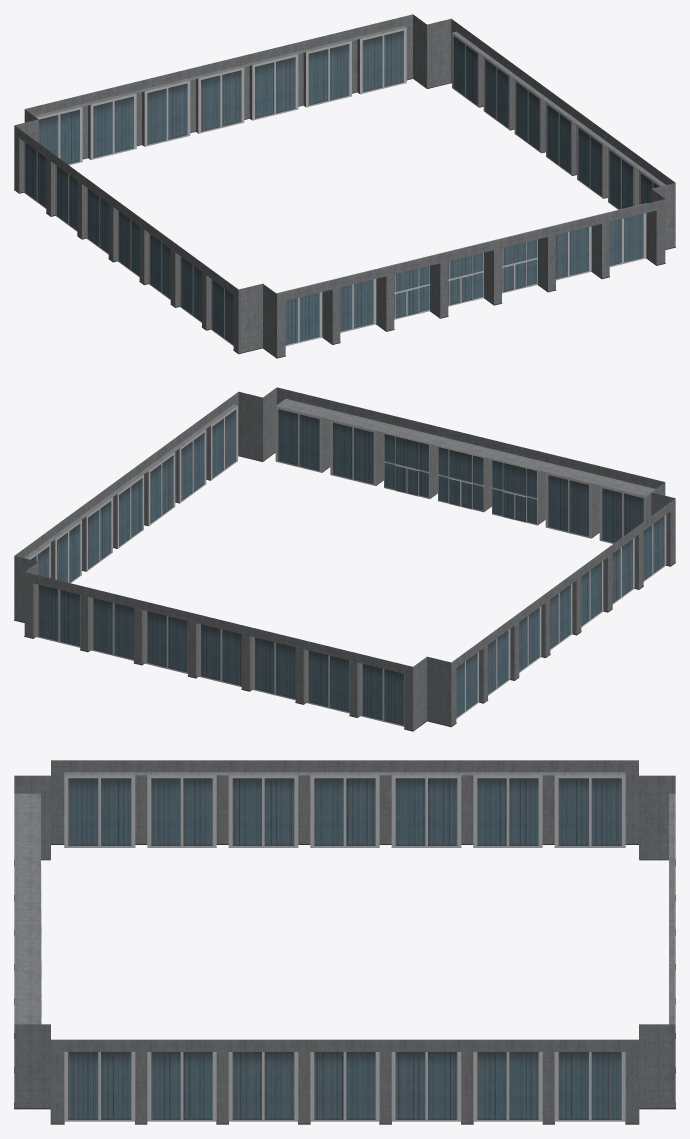
File: jctBld50A_btm_low.fbx
3 renders of one model, top to bottom at view 1: azimuth 30°, elevation 25°; view 2: azimuth 150°, elevation 25°; view 3: azimuth 270°, elevation 25°, orthographic. The views are drawn at different scales.
Parts seen in each view (by area): view 1: jctBld50A_btm_low; view 2: jctBld50A_btm_low; view 3: jctBld50A_btm_low.
Boxes of the visible parts, <box> form: jctBld50A_btm_low: <box>14,14,675,358</box>; jctBld50A_btm_low: <box>14,387,675,731</box>; jctBld50A_btm_low: <box>14,760,675,1124</box>.
Size of the model in its own units: 4954 by 700 by 4954.
